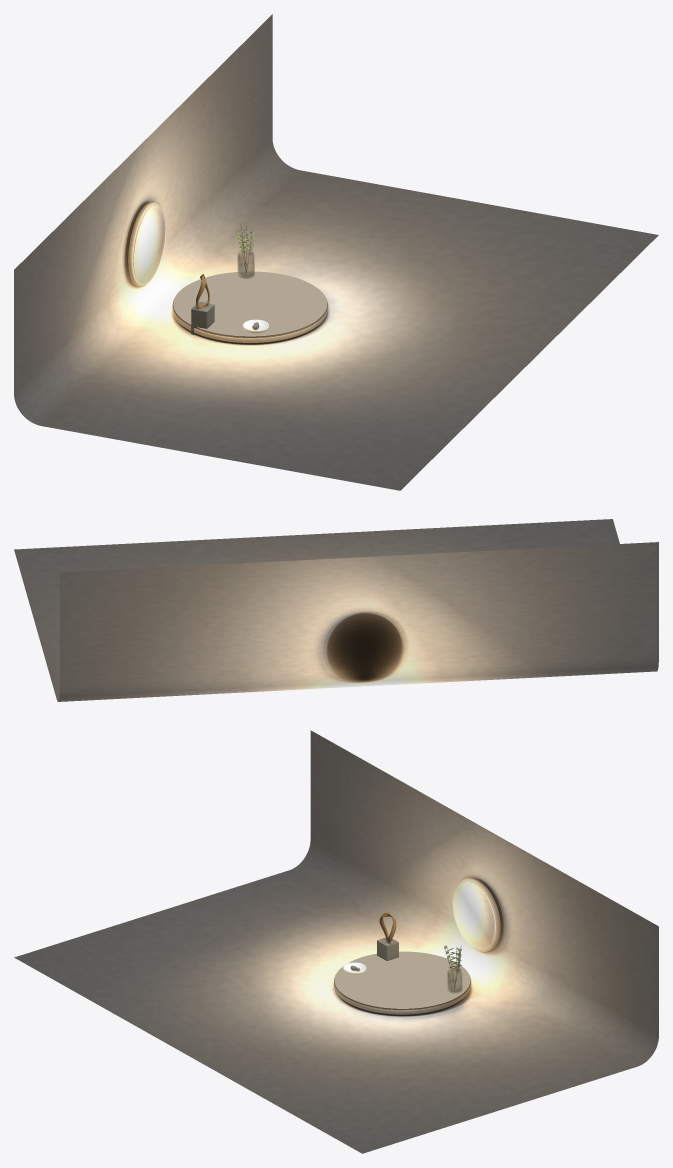
The model's file is atelier.glb.
3 views of the same model, one above another, from view 1: azimuth 30°, elevation 25°; view 2: azimuth 150°, elevation 25°; view 3: azimuth 270°, elevation 25° (orthographic). The views are drawn at different scales.
Parts seen in each view (by area): view 1: Atelier | baked architectural lighting, ReflectiveSurface; view 2: Atelier | baked architectural lighting; view 3: Atelier | baked architectural lighting, ReflectiveSurface.
Boxes of the visible parts, x1,y1,x2,y2 form: Atelier | baked architectural lighting: (14,14,658,490); ReflectiveSurface: (173,271,327,336); Atelier | baked architectural lighting: (14,519,658,701); Atelier | baked architectural lighting: (14,730,658,1153); ReflectiveSurface: (334,951,470,1008).
Bounding box in the file's own units: 61.52 × 13.18 × 57.76.
Materials: 6 (1 with a texture image).
